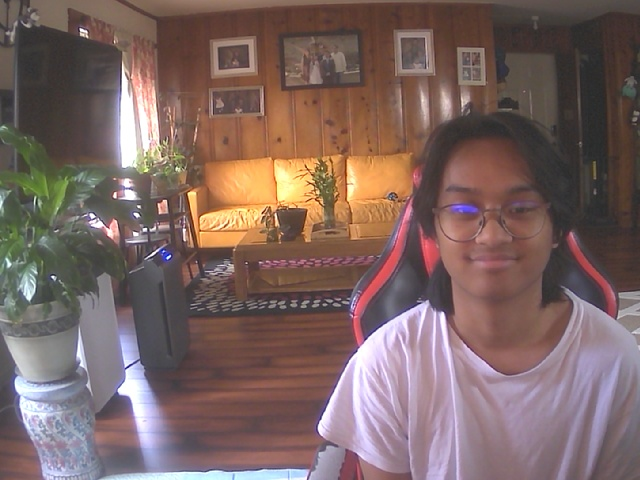happy: (427, 112, 565, 305)
